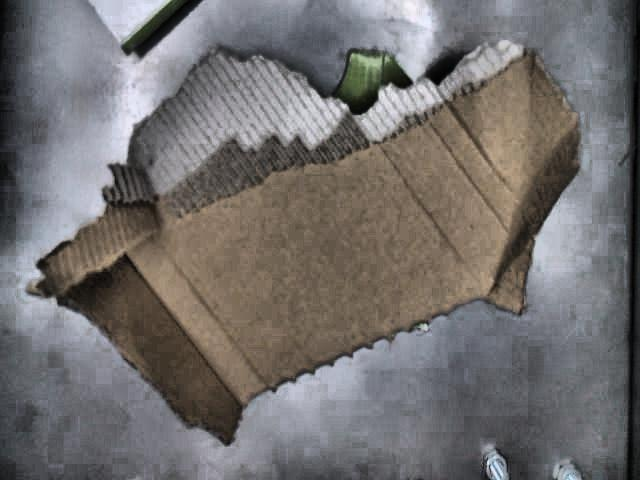Paper: (30, 40, 583, 450), (88, 0, 195, 57)
